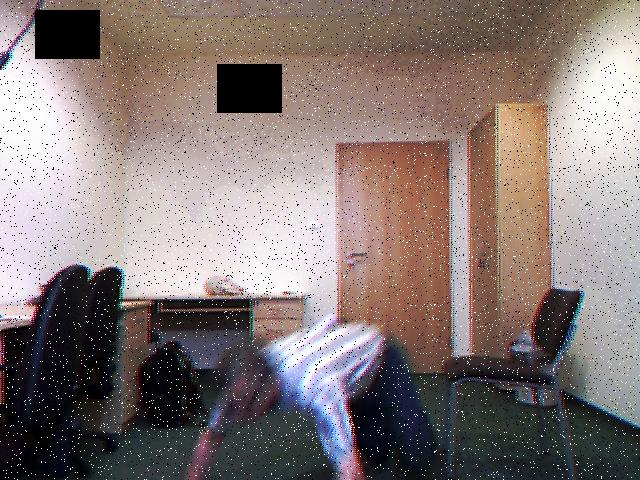fall: (187, 308, 437, 480)
